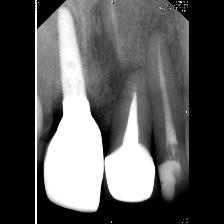apical_lesion: (103, 28, 157, 203)
